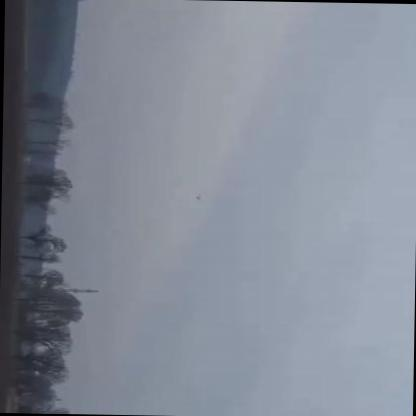plane: (192, 191, 204, 203)
